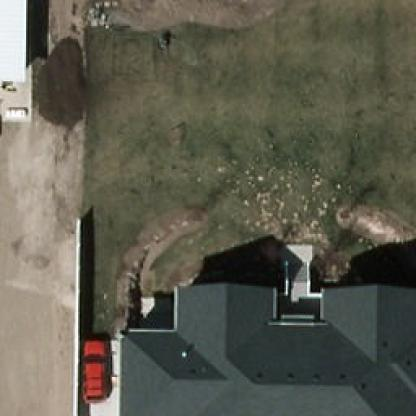car: (78, 336, 110, 403)
